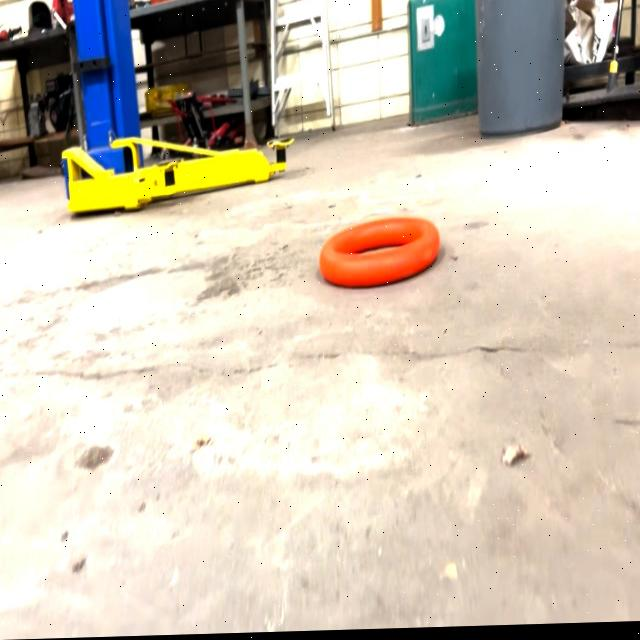note: (317, 211, 443, 293)
